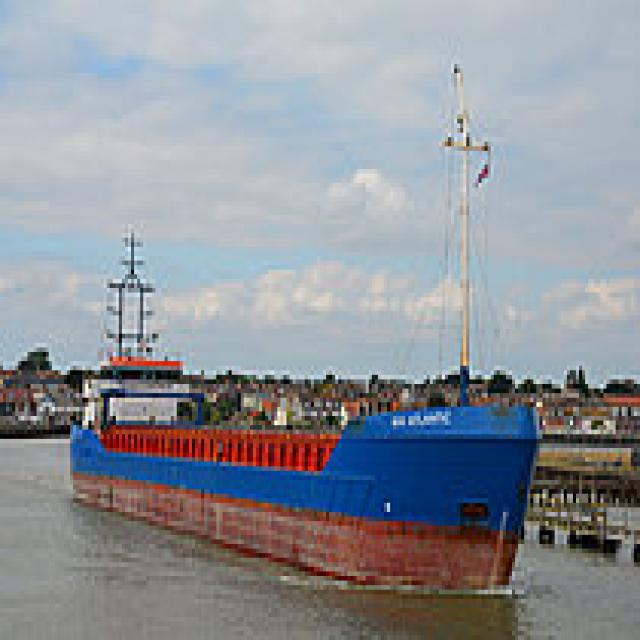Cargo: (64, 55, 539, 594)
